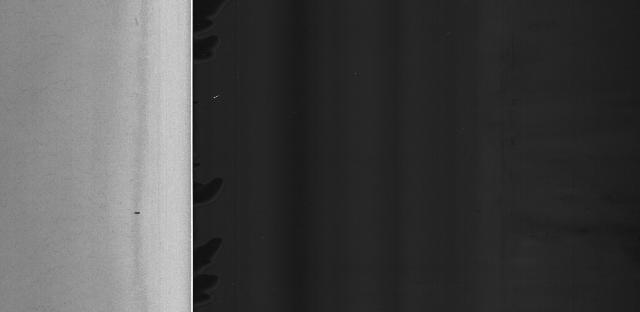oil_spot: (129, 208, 149, 224)
silk_spot: (0, 36, 105, 274)
